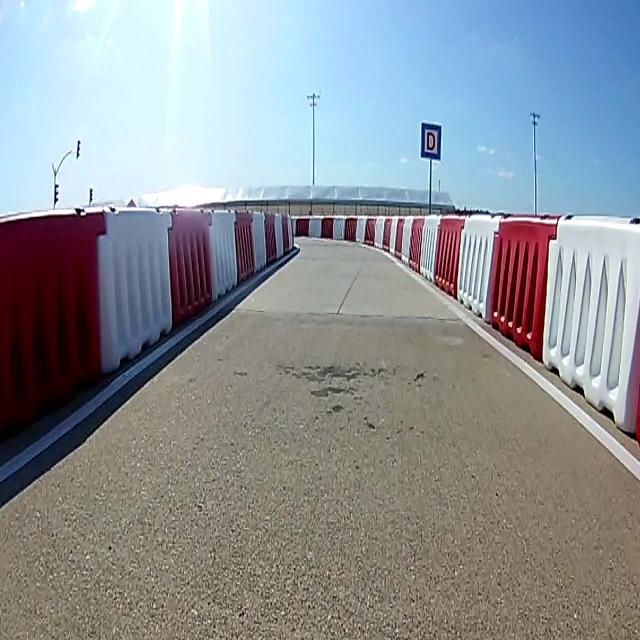durak: (421, 123, 442, 159)
